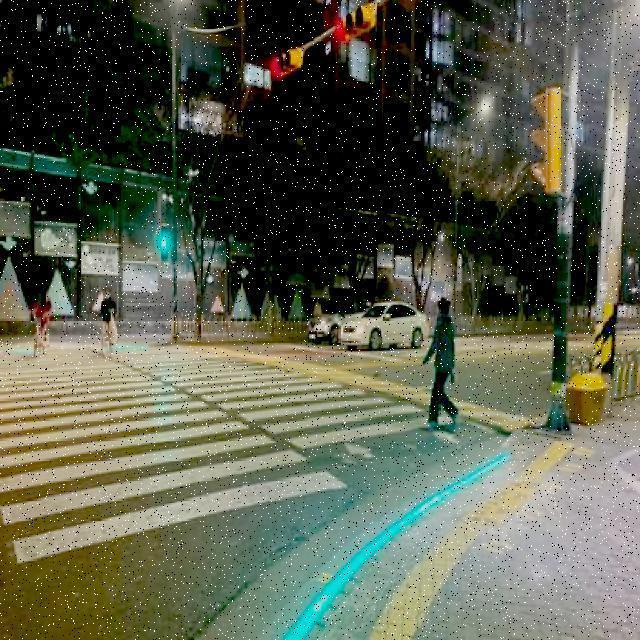crosswalk: (108, 341, 465, 452)
